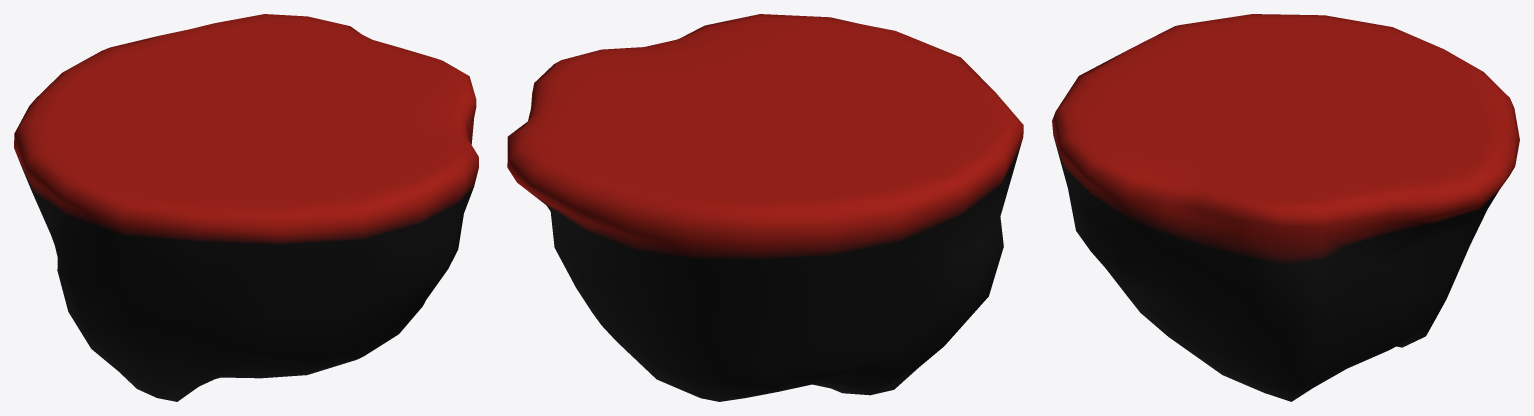
The model's file is platform_arene_02.fbx.
3 views of the same model, side by side, from view 1: azimuth 30°, elevation 25°; view 2: azimuth 150°, elevation 25°; view 3: azimuth 270°, elevation 25° (orthographic). The views are drawn at different scales.
Parts seen in each view (by area): view 1: Retopo_arena_high.001; view 2: Retopo_arena_high.001; view 3: Retopo_arena_high.001.
Boxes of the visible parts, x1=… form: Retopo_arena_high.001: x1=14, y1=14, x2=478, y2=401; Retopo_arena_high.001: x1=507, y1=14, x2=1023, y2=401; Retopo_arena_high.001: x1=1052, y1=14, x2=1519, y2=401.
Bounding box in the file's own units: 56.99 × 31.97 × 55.92.
